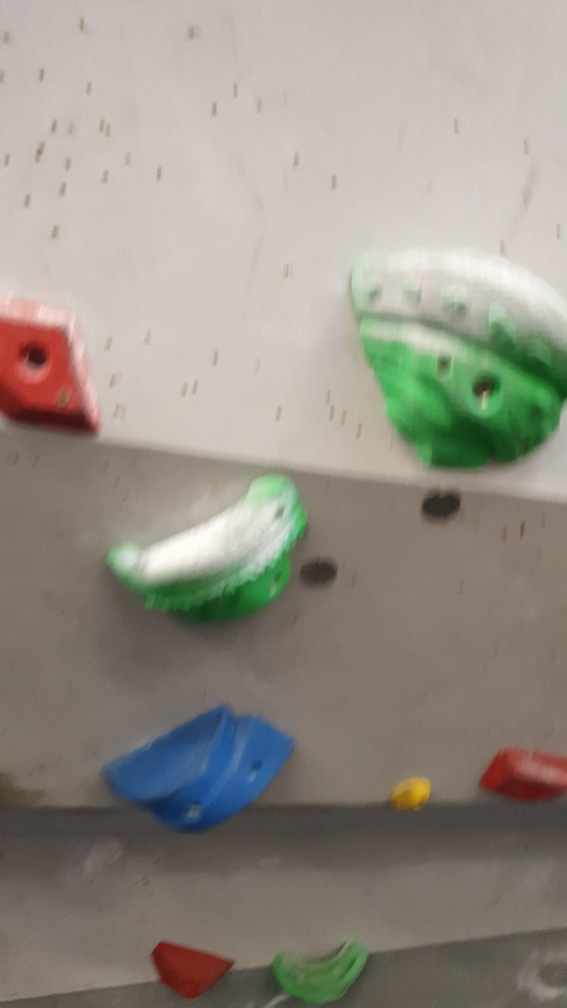Crimp: (1, 285, 102, 440), (478, 744, 566, 803)
Hand Start: (298, 553, 343, 594), (420, 488, 459, 522)
Jug: (348, 245, 567, 469), (102, 469, 310, 633), (264, 938, 371, 1007)
Pinch: (100, 701, 296, 837)
